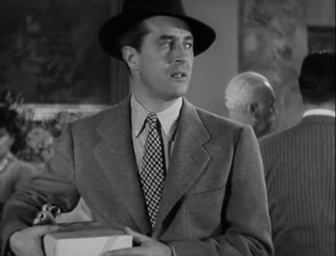face: (149, 24, 194, 97)
mcu: (1, 1, 336, 256)
person: (8, 1, 274, 256), (257, 48, 336, 256), (1, 108, 39, 223), (224, 70, 278, 142)
